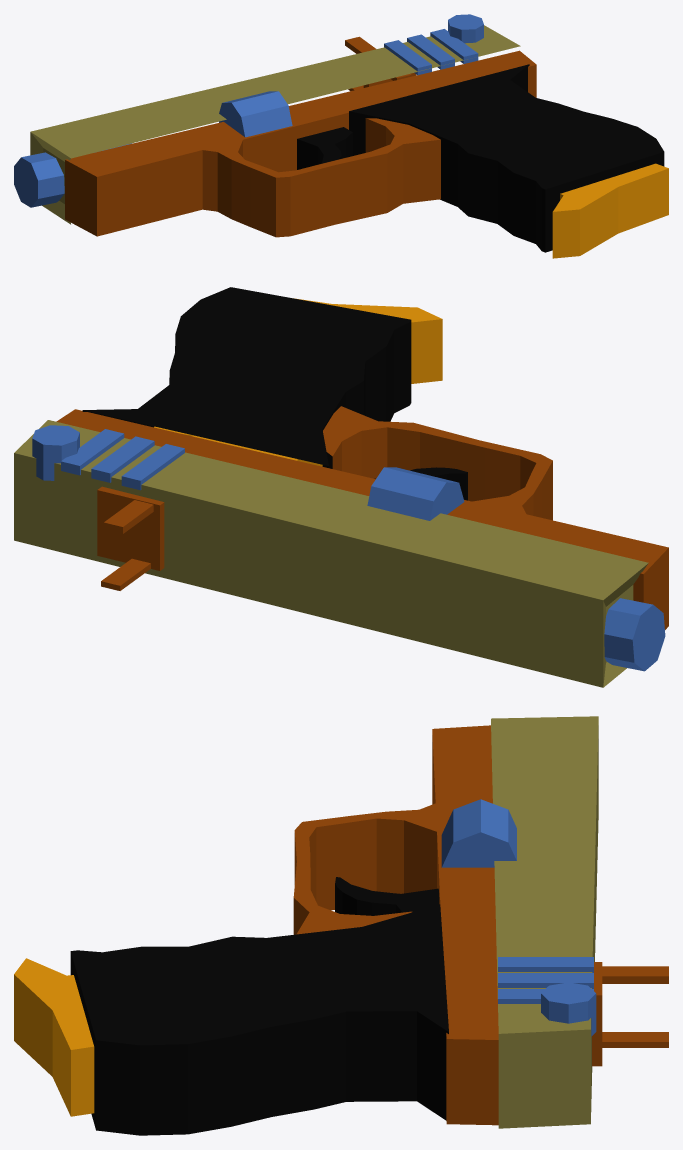
Rendered from pistol_FE15_unsilenced.glb.
3 renders of one model, top to bottom at view 1: azimuth 30°, elevation 25°; view 2: azimuth 150°, elevation 25°; view 3: azimuth 270°, elevation 25°, orthographic. The views are drawn at different scales.
Visible parts, largest first — view 1: extra, magzine, Cube, red_dot; view 2: extra, red_dot, Cube, magzine; view 3: extra, magzine, Cube, red_dot.
Part boxes in pixels (left/top/right/bottom): extra: left=14, top=14, right=664, bottom=252; magzine: left=552, top=163, right=668, bottom=258; Cube: left=384, top=29, right=478, bottom=75; red_dot: left=345, top=36, right=416, bottom=91; extra: left=14, top=287, right=668, bottom=687; red_dot: left=97, top=486, right=164, bottom=590; Cube: left=61, top=429, right=184, bottom=490; magzine: left=154, top=298, right=442, bottom=466; extra: left=70, top=716, right=598, bottom=1135; magzine: left=14, top=958, right=94, bottom=1116; Cube: left=498, top=957, right=593, bottom=1003; red_dot: left=592, top=962, right=668, bottom=1066.
Size of the model in its own units: 4.8 by 0.8154 by 3.92.
